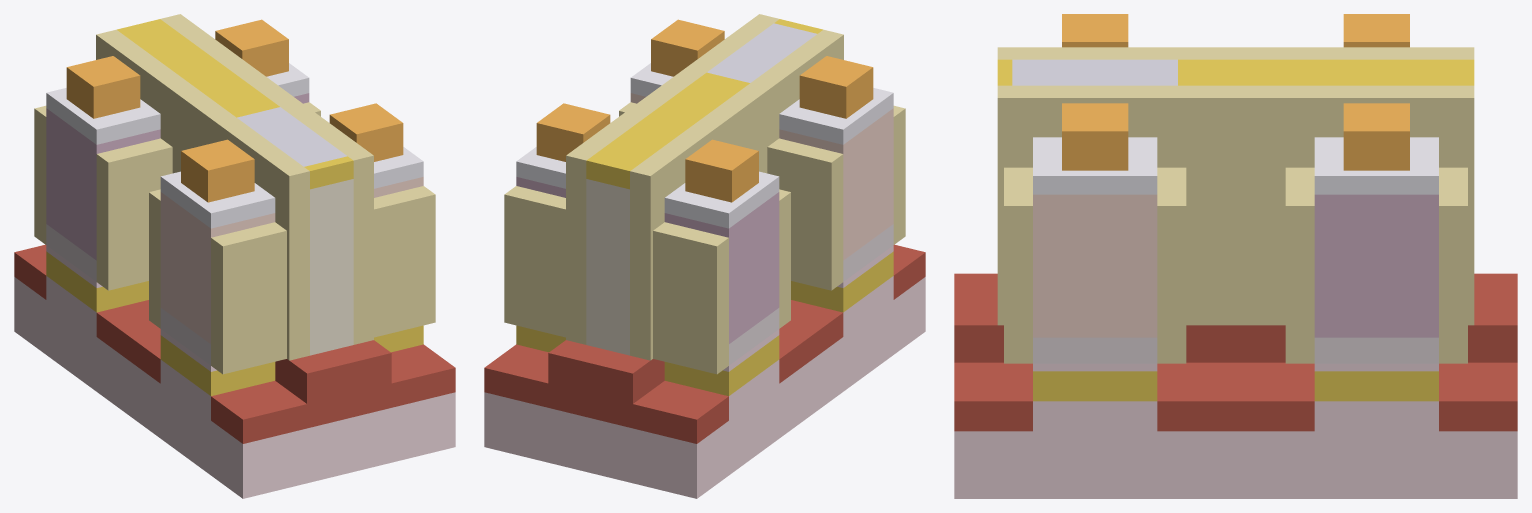
The picture shows the model from 3 angles, left to right: view 1: azimuth 30°, elevation 25°; view 2: azimuth 150°, elevation 25°; view 3: azimuth 270°, elevation 25°; orthographic projection. The views are drawn at different scales.
Visible parts, largest first — view 1: substrate, n_finsp, sti, spacer_source, p_finsp, spacer_drain, gate_mo, n_epi_source, p_epi_source, gatecap, p_ni_source, n_ni_source (+14 smaller); view 2: substrate, p_finsp, sti, spacer_source, n_finsp, spacer_drain, gate_mo, p_epi_source, n_epi_source, gatecap, n_ni_source, p_ni_source (+14 smaller); view 3: spacer_drain, substrate, sti, n_epi_drain, p_epi_drain, n_finsp, p_finsp, gatecap, spacer_source, n_nisi_drain, p_nisi_drain, n_ni_drain (+12 smaller).
Part boxes in pixels (box(x1,y1,x2,y2)): substrate: box(14, 277, 455, 498); n_finsp: box(149, 186, 435, 374); sti: box(14, 244, 455, 443); spacer_source: box(96, 29, 309, 360); p_finsp: box(34, 102, 320, 290); spacer_drain: box(160, 14, 373, 344); gate_mo: box(310, 179, 353, 355); n_epi_source: box(160, 192, 275, 343); p_epi_source: box(46, 108, 160, 260); gatecap: box(117, 19, 353, 189); p_ni_source: box(66, 56, 140, 118); n_ni_source: box(181, 139, 254, 202); substrate: box(484, 277, 925, 498); p_finsp: box(504, 186, 790, 374); sti: box(484, 244, 925, 443); spacer_source: box(630, 29, 843, 360); n_finsp: box(619, 102, 905, 290); spacer_drain: box(566, 14, 779, 344); gate_mo: box(586, 179, 629, 355); p_epi_source: box(664, 192, 779, 343); n_epi_source: box(779, 108, 893, 260); gatecap: box(586, 19, 822, 189); n_ni_source: box(799, 56, 873, 118); p_ni_source: box(685, 139, 758, 202); spacer_drain: box(997, 85, 1474, 325); substrate: box(954, 431, 1517, 498); sti: box(954, 273, 1517, 431); n_epi_drain: box(1033, 194, 1157, 337); p_epi_drain: box(1314, 194, 1438, 337); n_finsp: box(1004, 167, 1186, 363); p_finsp: box(1285, 167, 1467, 363); gatecap: box(997, 59, 1474, 85); spacer_source: box(997, 47, 1474, 59); n_nisi_drain: box(1033, 137, 1157, 194); p_nisi_drain: box(1314, 137, 1438, 194); n_ni_drain: box(1062, 103, 1128, 170).
Size of the model in its own units: 73 by 96.5 by 136.
